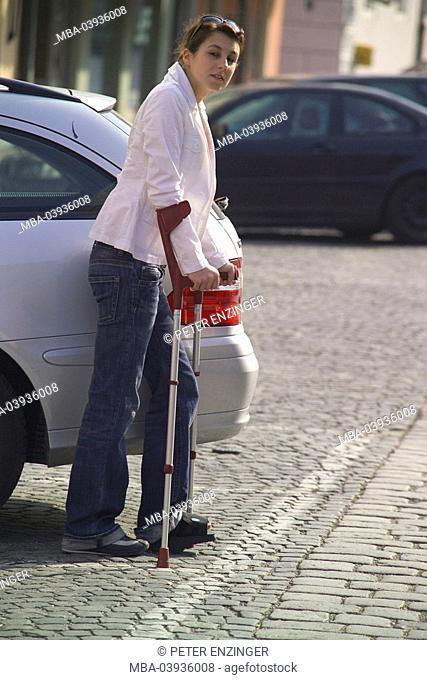crutches: (61, 15, 244, 565)
